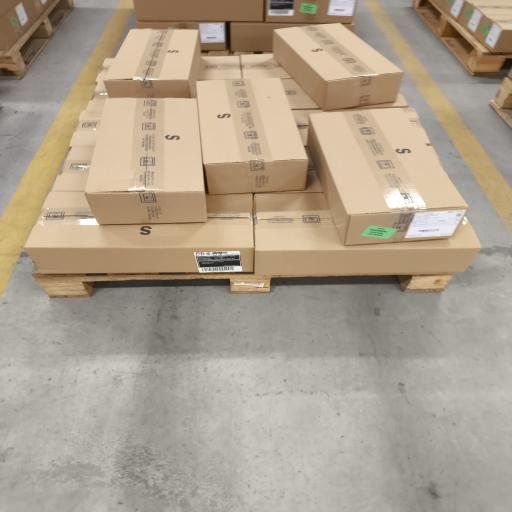pallet: (33, 266, 310, 297), (494, 77, 511, 108), (491, 101, 511, 127)
